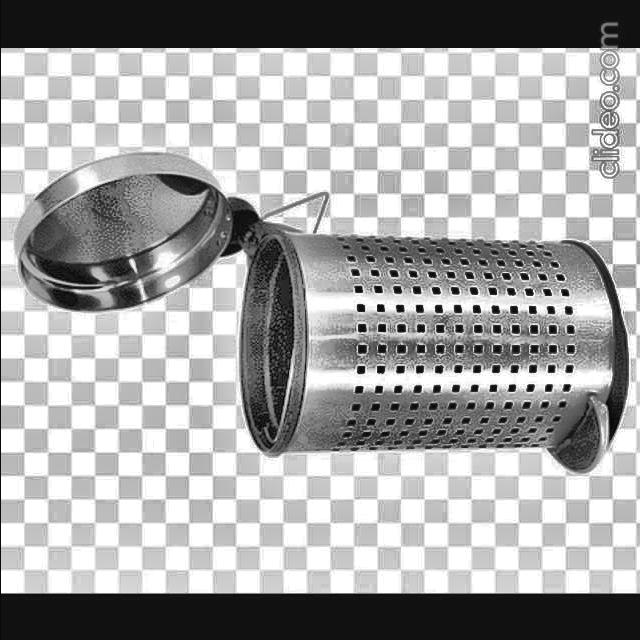Dustbin: (11, 142, 634, 488)
